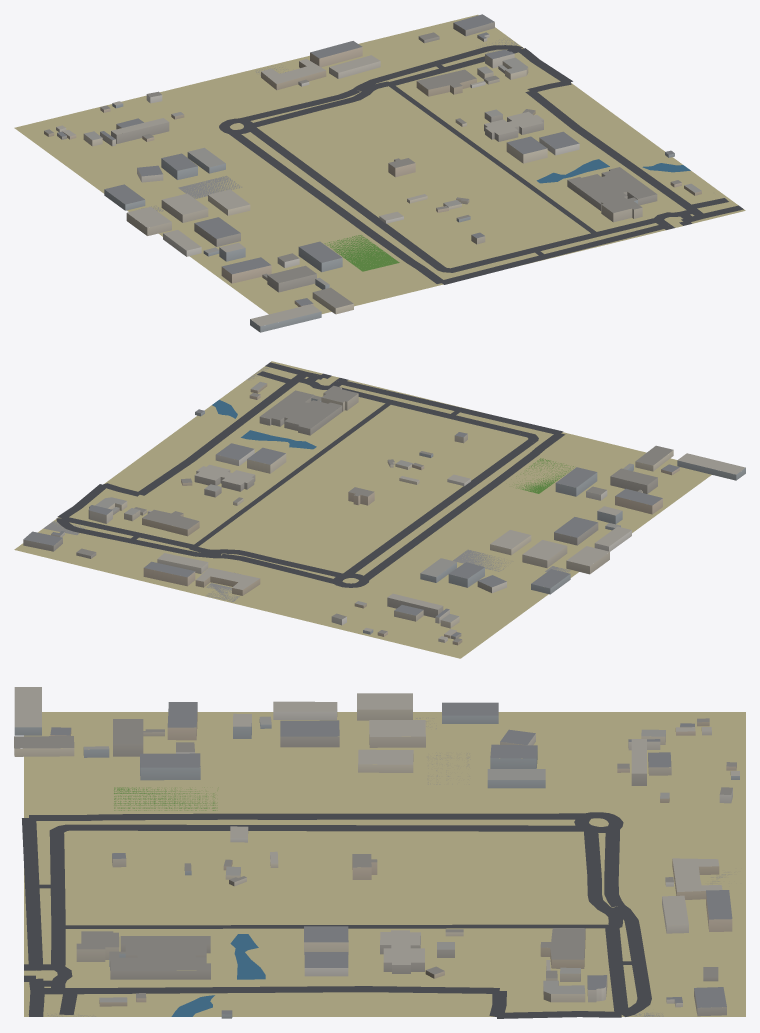
3 renders of one model, top to bottom at view 1: azimuth 30°, elevation 25°; view 2: azimuth 150°, elevation 25°; view 3: azimuth 270°, elevation 25°, orthographic. The views are drawn at different scales.
Parts seen in each view (by area): view 1: landuse, buildings_roofs, roads, buildings_walls, water; view 2: landuse, buildings_roofs, roads, buildings_walls, water; view 3: landuse, buildings_roofs, roads, buildings_walls, water.
Boxes of the visible parts, x1,y1,x2,y2 form: landuse: (14, 14, 745, 314); buildings_roofs: (44, 14, 701, 326); roads: (219, 45, 743, 284); buildings_walls: (44, 22, 701, 332); water: (536, 159, 690, 183); landuse: (14, 361, 711, 658); buildings_roofs: (23, 381, 745, 642); roads: (56, 362, 565, 587); buildings_walls: (23, 383, 745, 645); water: (212, 399, 316, 449); landuse: (24, 712, 745, 1016); buildings_roofs: (14, 687, 739, 1014); roads: (22, 812, 651, 1018); buildings_walls: (14, 709, 739, 1018); water: (171, 934, 265, 1016).
Size of the model in its own units: 530 by 9.59 by 507.
